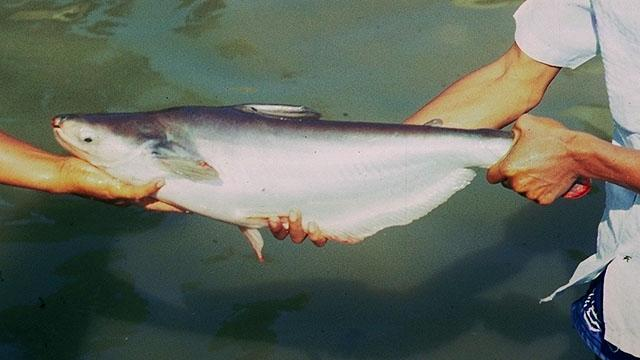Mulut: (44, 104, 106, 166)
Sirip Anal: (304, 157, 476, 247)
Sirip Dada: (154, 138, 226, 194)
Sirip Perut: (226, 198, 282, 270)
Sirip Punggung: (238, 86, 332, 134)
